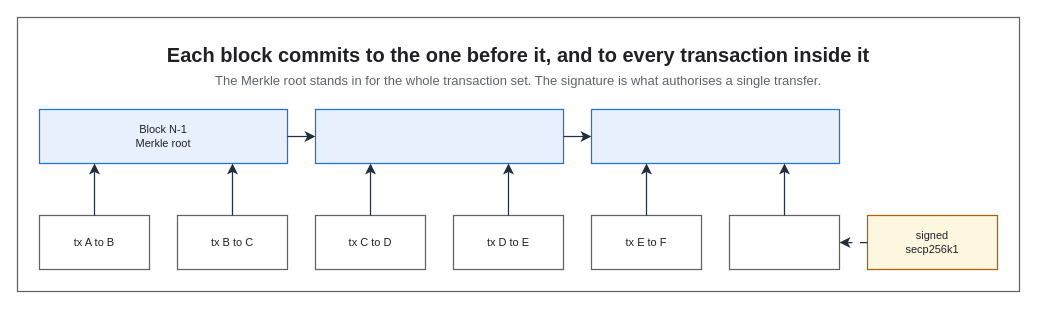
The diagram is 1038 pixels wide and 310 high, and some of its shapes have lost their labels. Here are the shapes that lost their labels. From the top down, the centre of each, then its label:
(x=439, y=136): Block N Merkle root
(x=715, y=136): Block N+1 Merkle root
(x=784, y=242): tx F to G
